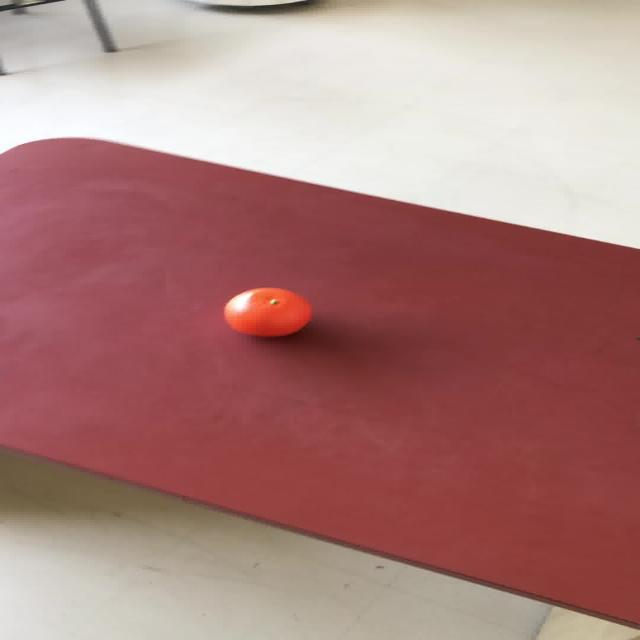orange: (222, 286, 312, 337)
